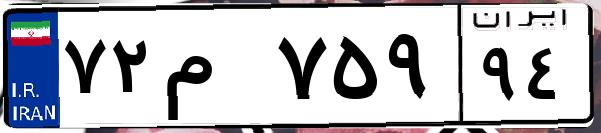2: (110, 28, 158, 98)
4: (525, 38, 570, 115)
5: (330, 28, 385, 110)
7: (270, 28, 330, 110), (57, 26, 110, 100)
9: (385, 28, 445, 110), (475, 38, 525, 113)
م: (158, 20, 270, 120)
